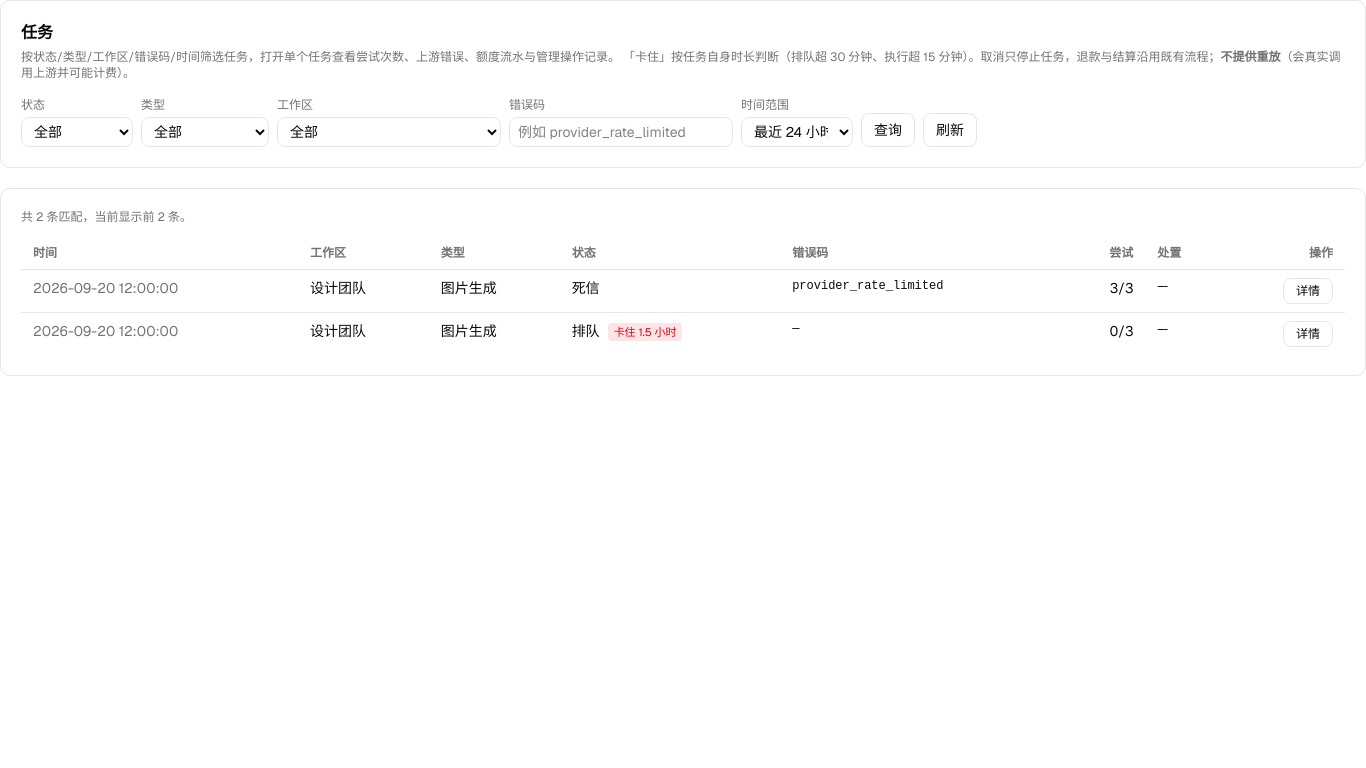
Test: admin jobs section › opens a job with its attempts, upstream error, ledger and admin history
Click the button "详情" in the row of "死信". click: [1308, 291]
box: [1283,278,1333,304]
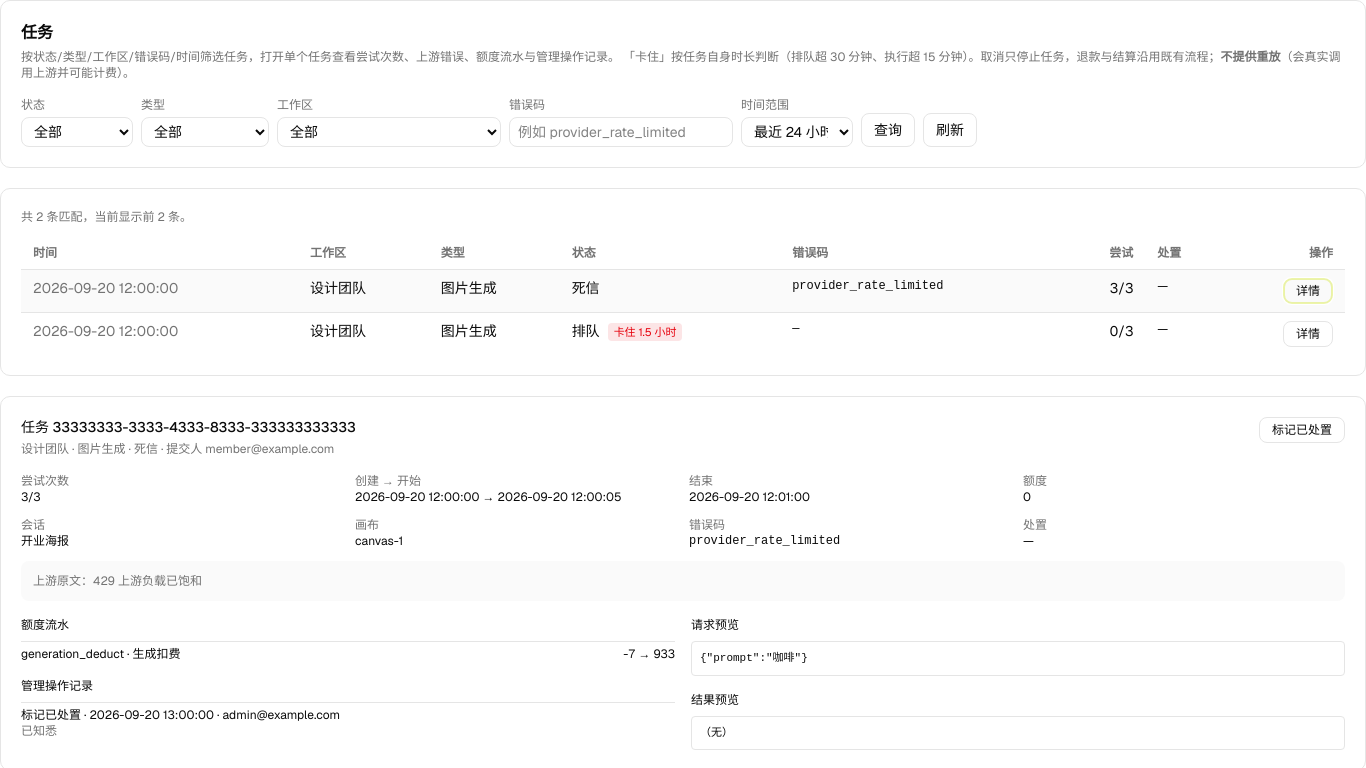
Expected: the text "开业海报" is shown, [21,533,69,549]
Expected: the text with test id "admin-job-error" shows "429 上游负载已饱和", [93,573,202,589]
Expected: the text "generation_deduct · 生成扣费" is shown, [21,646,180,662]
